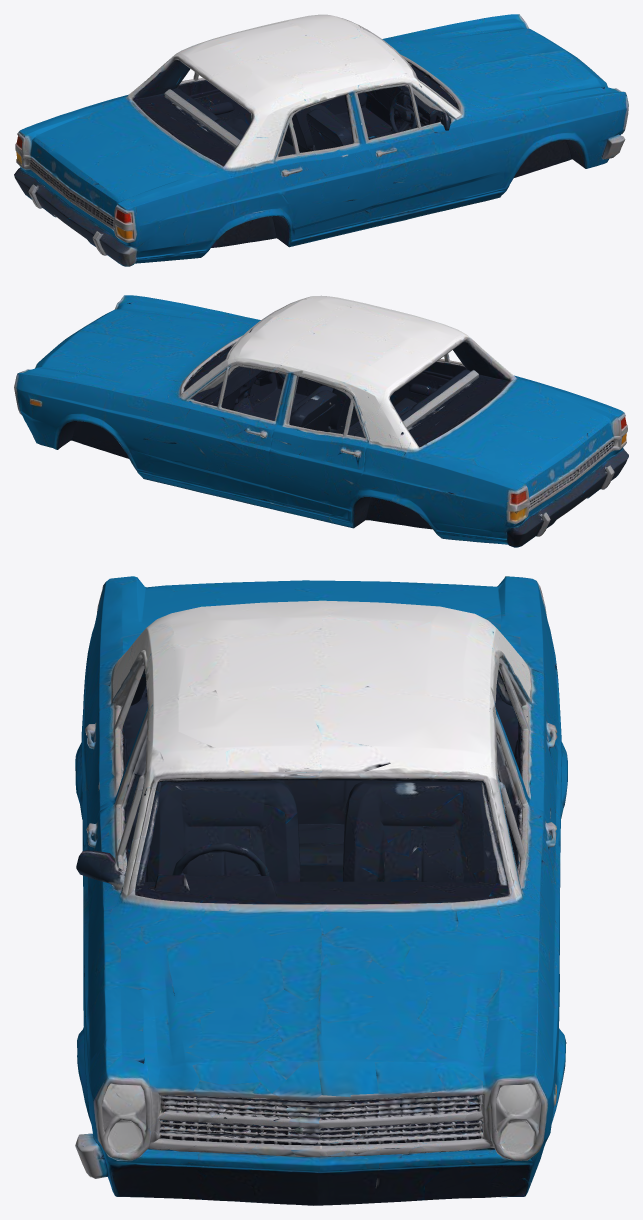
The model's file is zd_fairlane.glb.
The picture shows the model from 3 angles, top to bottom: view 1: azimuth 30°, elevation 25°; view 2: azimuth 150°, elevation 25°; view 3: azimuth 270°, elevation 25°; orthographic projection. The views are drawn at different scales.
Visible parts, largest first — view 1: zd_fairlane; view 2: zd_fairlane; view 3: zd_fairlane.
Part boxes in pixels (x1=…): zd_fairlane: x1=14, y1=14, x2=628, y2=266; zd_fairlane: x1=14, y1=295, x2=628, y2=547; zd_fairlane: x1=75, y1=576, x2=567, y2=1205.
Bounding box in the file's own units: 5.1 × 1.4 × 2.11.
1 material, 1 textured.
